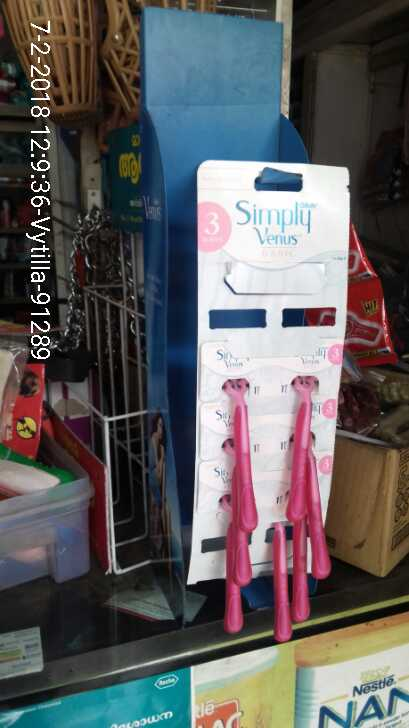reject: (82, 95, 124, 135)
